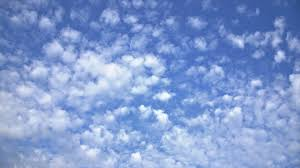sky: (3, 1, 300, 167)
